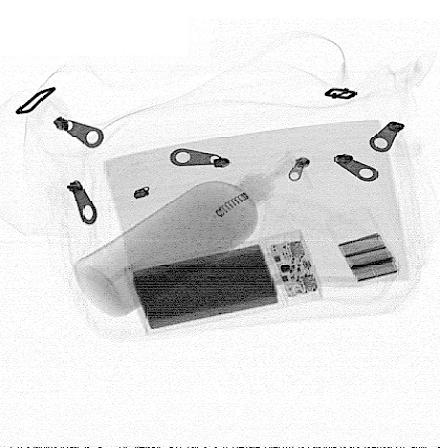Powerbank: (125, 229, 324, 337)
